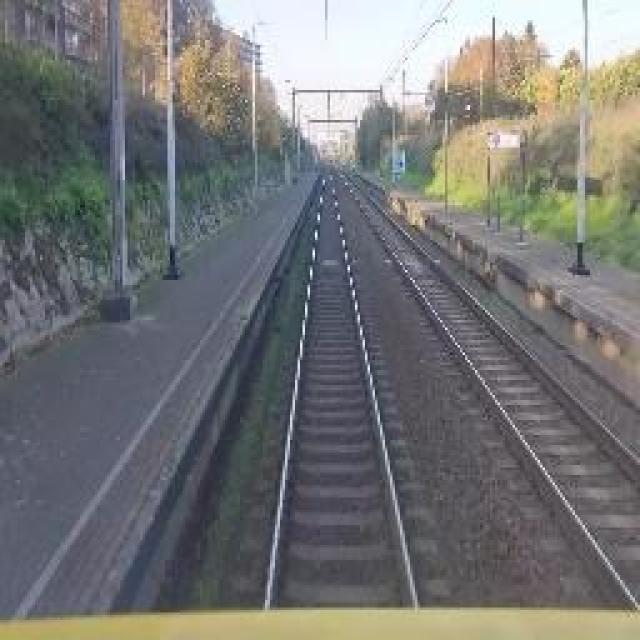rail: (225, 164, 456, 610)
